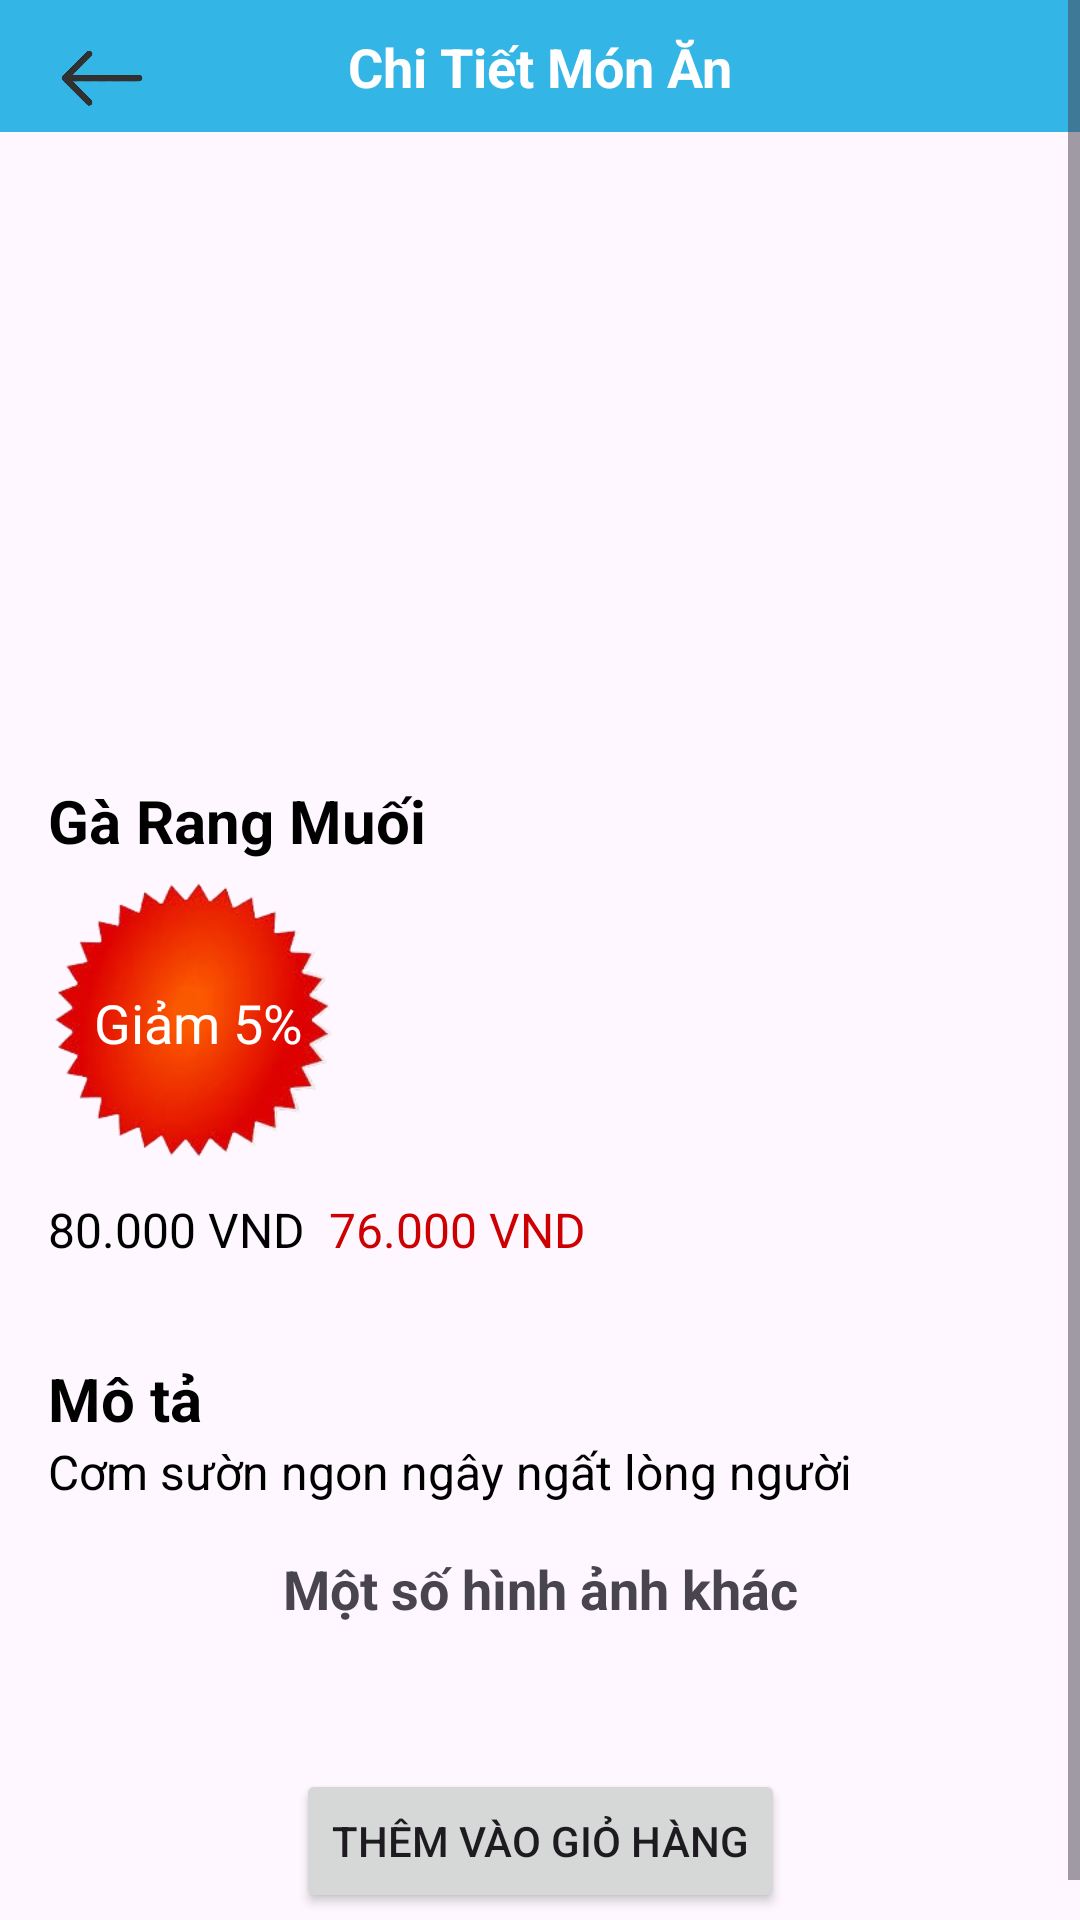

Screen size 1080*1920. Icon name, then its box in pixels as BBox(x1, y1, x2, y2):
back: BBox(62, 51, 143, 106)
